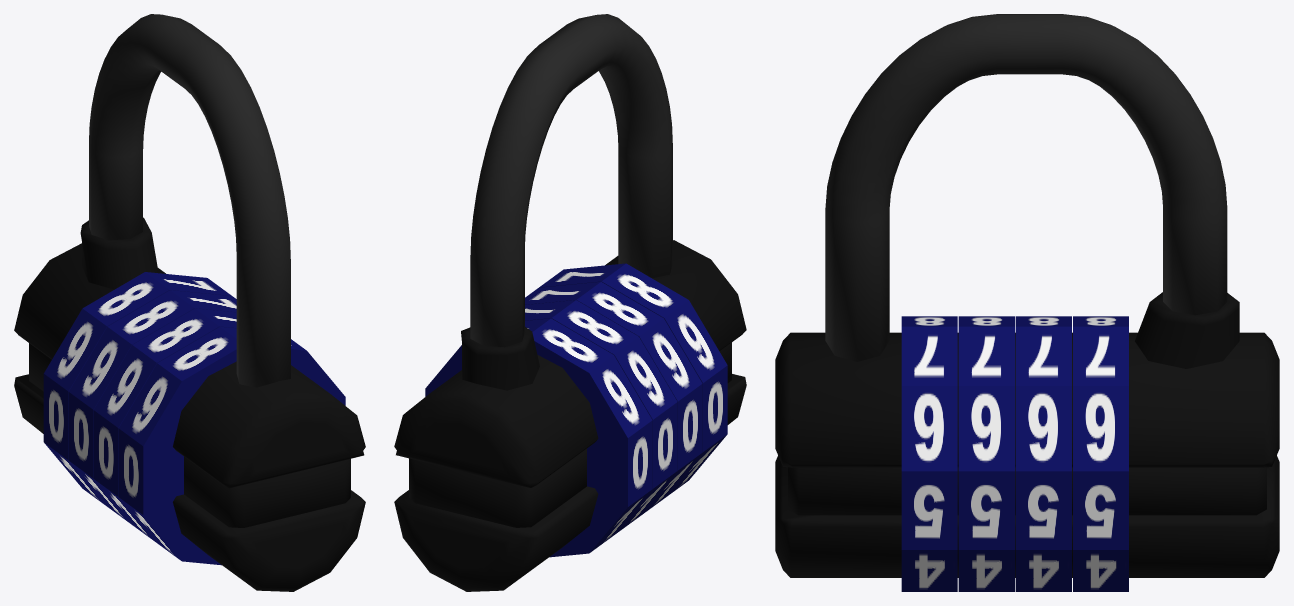
File: CombinationLock.obj
3 renders of one model, left to right at view 1: azimuth 30°, elevation 25°; view 2: azimuth 150°, elevation 25°; view 3: azimuth 270°, elevation 25°, orthographic. The views are drawn at different scales.
Parts seen in each view (by area): view 1: lock, hoop_metal_lock, 4th_wheel, 1st_wheel, 2d_wheel, 3rd_wheel; view 2: lock, hoop_metal_lock, 1st_wheel, 4th_wheel, 3rd_wheel, 2d_wheel; view 3: lock, hoop_metal_lock, 2d_wheel, 3rd_wheel, 4th_wheel, 1st_wheel.
Part boxes in pixels (x1,y1,x2,y2): lock: (14,217,365,591); hoop_metal_lock: (89,14,290,387); 4th_wheel: (118,326,345,565); 1st_wheel: (43,272,231,505); 2d_wheel: (68,290,236,524); 3rd_wheel: (93,308,236,542); lock: (394,240,746,591); hoop_metal_lock: (470,14,672,347); 1st_wheel: (425,318,652,557); 4th_wheel: (539,263,727,497); 3rd_wheel: (525,282,702,516); 2d_wheel: (525,300,677,534); lock: (775,292,1279,577); hoop_metal_lock: (825,14,1227,361); 2d_wheel: (1015,316,1071,591); 3rd_wheel: (958,316,1014,591); 4th_wheel: (901,316,957,591); 1st_wheel: (1073,316,1128,591).
Size of the model in its own units: 2.75 by 6.43 by 5.19.
